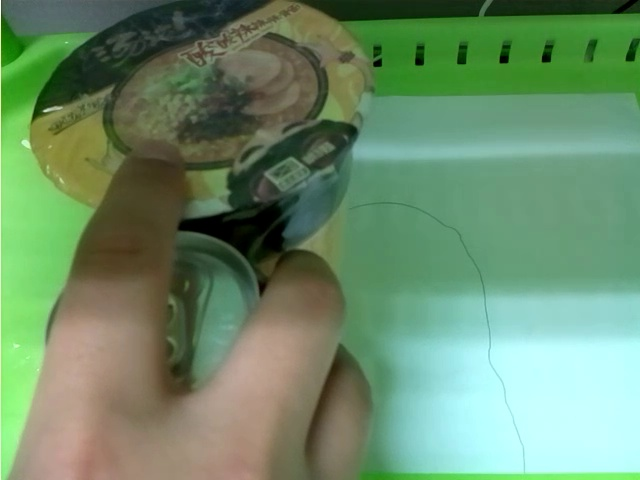cocacola: (165, 224, 256, 376)
hand: (20, 136, 375, 475)
noodles: (30, 3, 364, 276)
